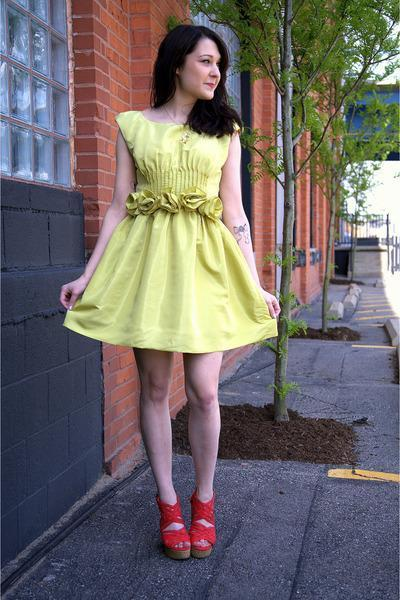dress: (63, 110, 277, 358)
shoe: (156, 495, 215, 554)
